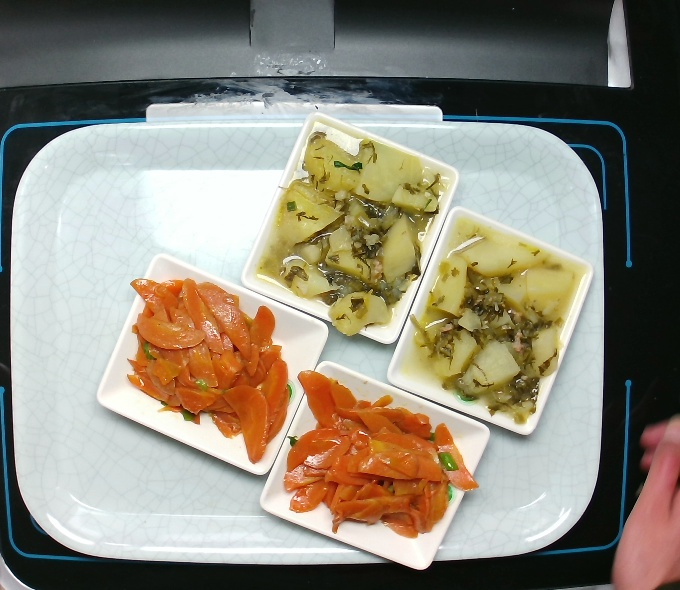wcq-HuLuoBo: (112, 262, 294, 467), (271, 366, 479, 540)
wcq-XueCaiTuDou: (260, 116, 439, 333), (389, 224, 582, 423)
